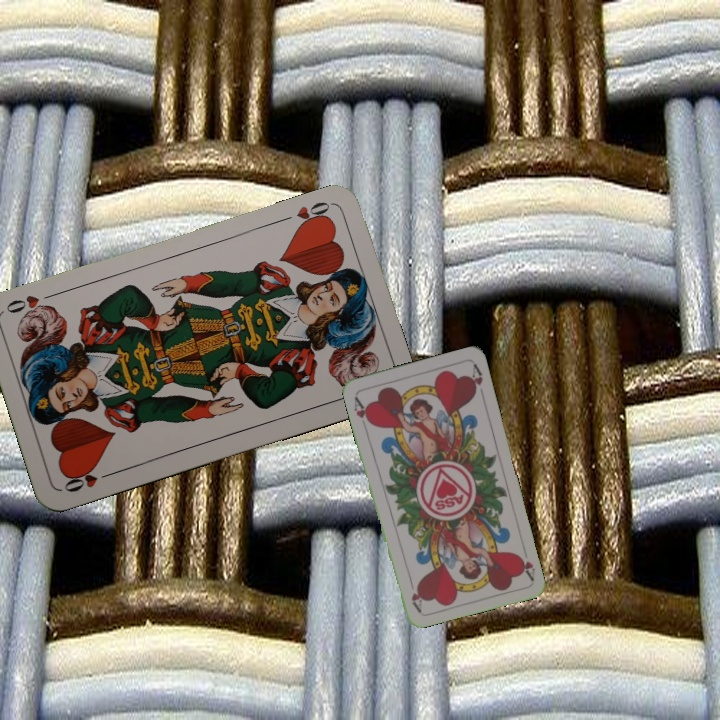HA: (350, 393, 374, 431), (513, 550, 537, 582)
HO: (277, 197, 334, 231), (59, 464, 117, 495)
